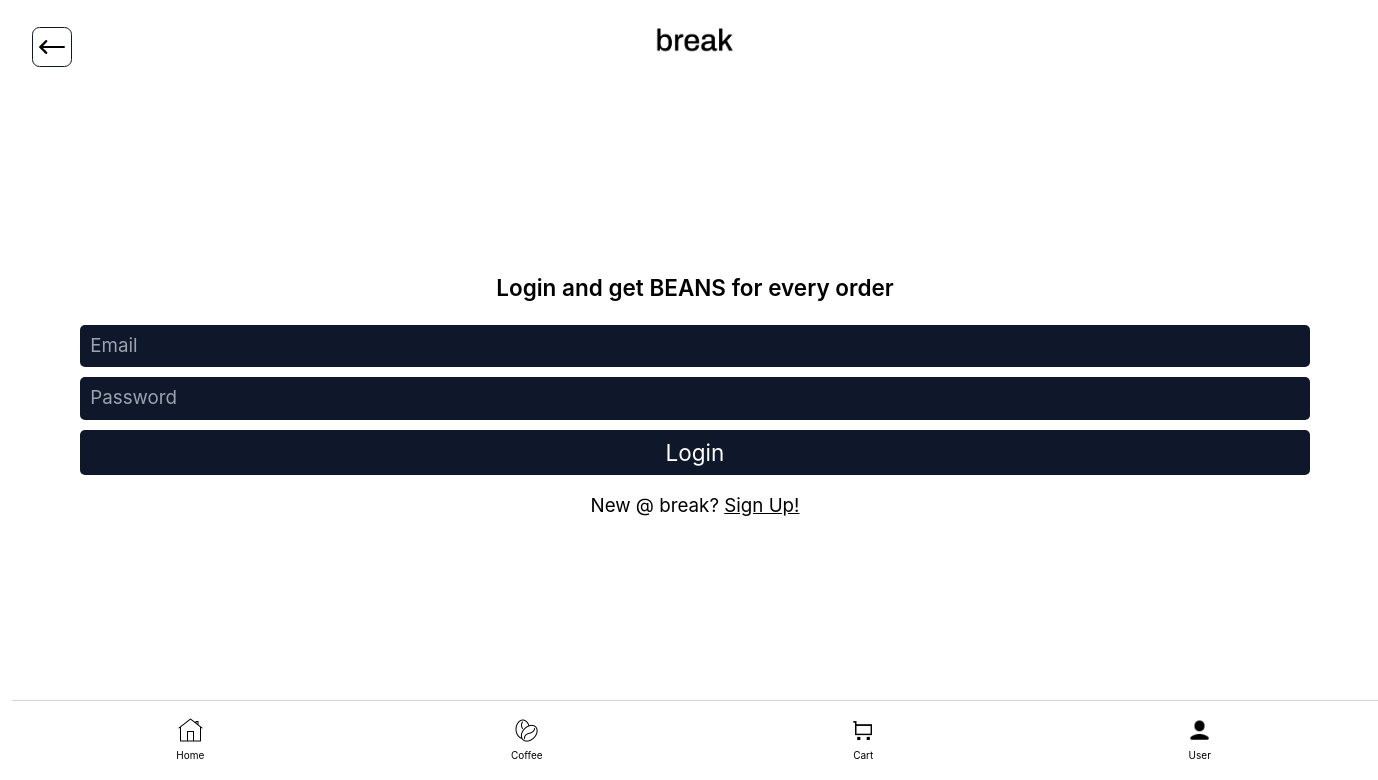
Test: testing user login › user can login and gets redirected to Home Page
The width and height of the screenshot is (1378, 780).
Type "tony@stark.com" into the field with placeholder "Email". click: {"x": 695, "y": 346}
box: left=80, top=325, right=1310, bottom=367
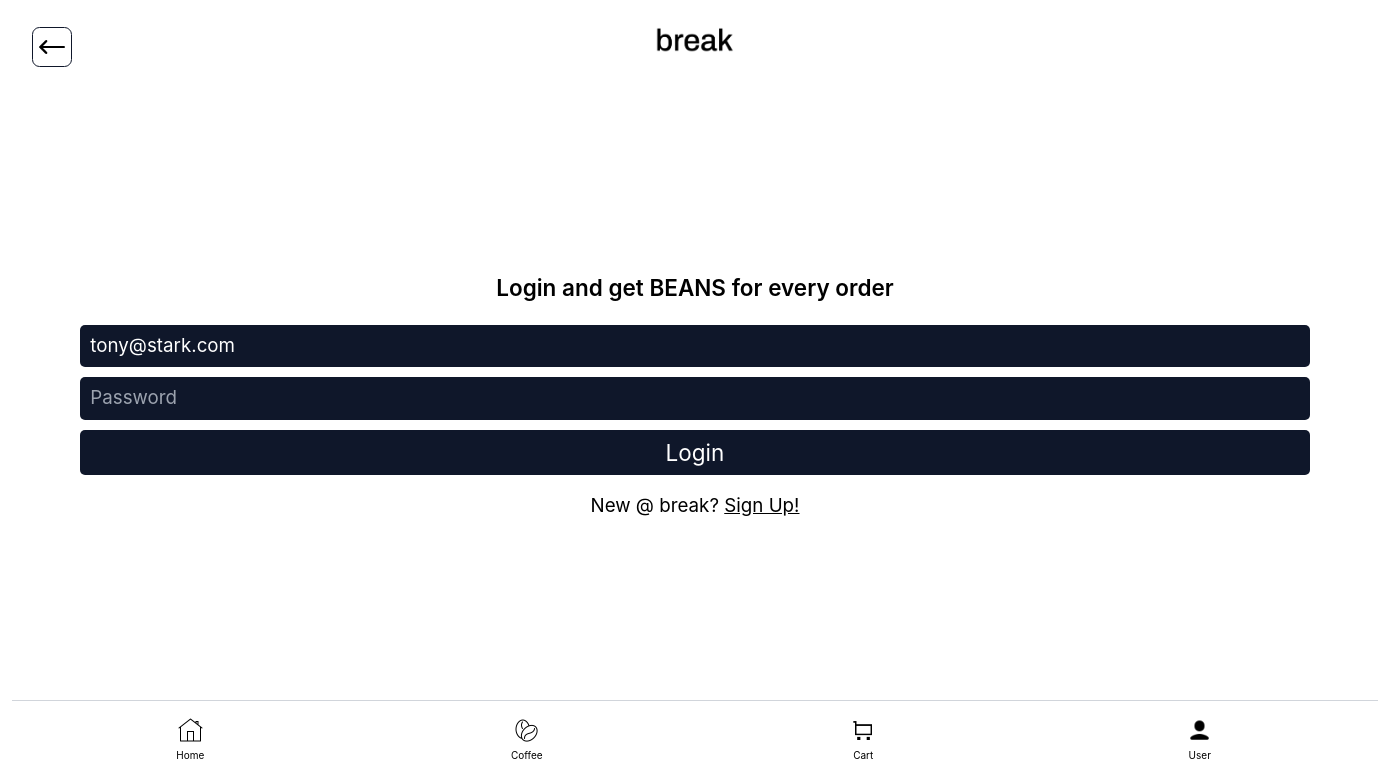
Type "123" into the password field with placeholder "Password". click: {"x": 695, "y": 399}
box: left=80, top=377, right=1310, bottom=420
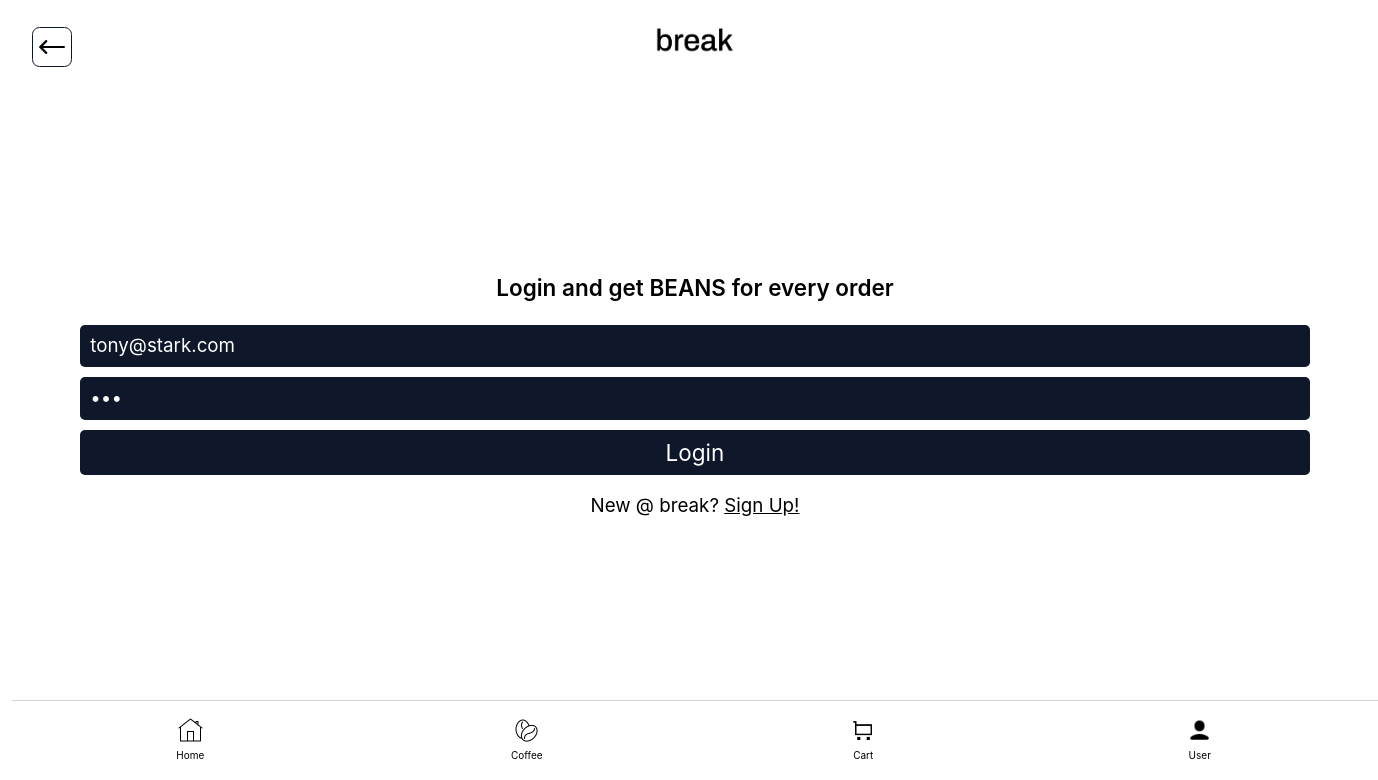
Click the button "Login". click: {"x": 695, "y": 452}
box: left=80, top=430, right=1310, bottom=475
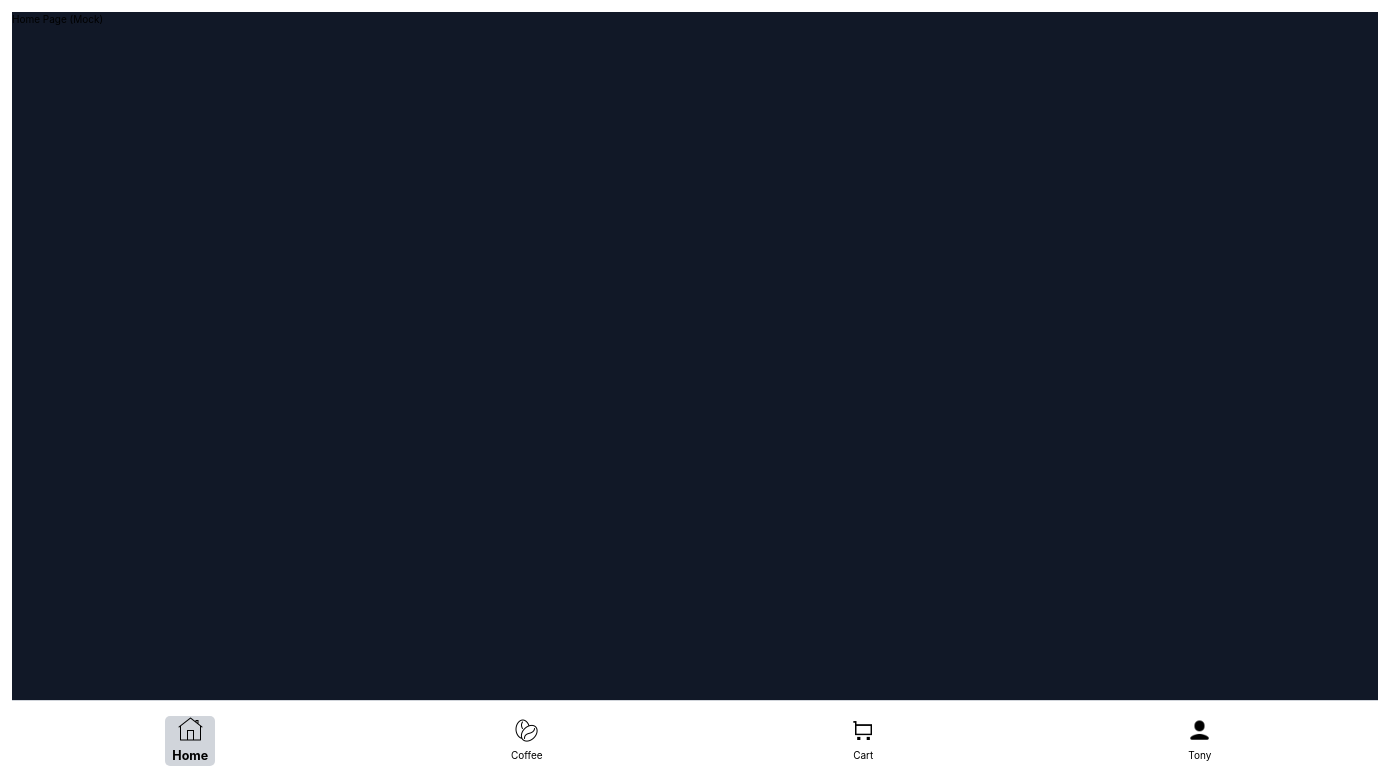
Check: the text "Tony" is shown, box left=1188, top=748, right=1211, bottom=763
Check: the text "Home Page (Mock)" is shown, box left=12, top=13, right=103, bottom=25
